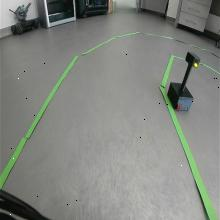green: (184, 50, 200, 70)
